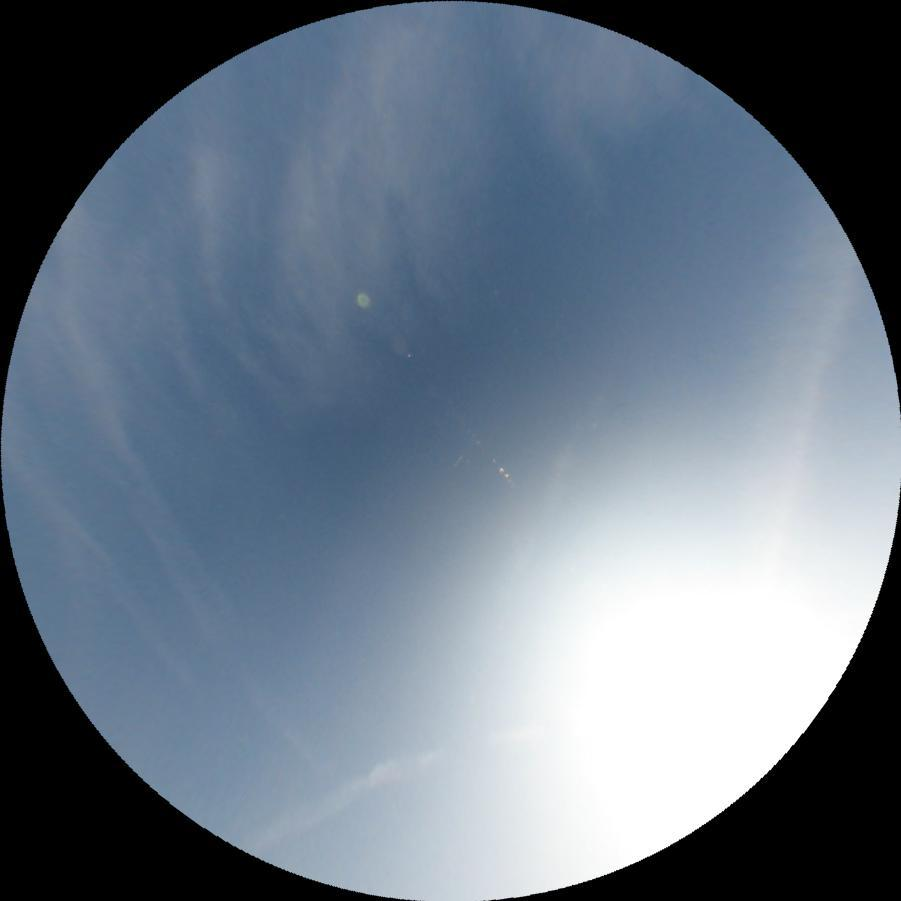contrail veryold: (69, 413, 359, 791), (692, 198, 890, 557), (221, 708, 540, 855)
sun: (521, 530, 850, 860)
